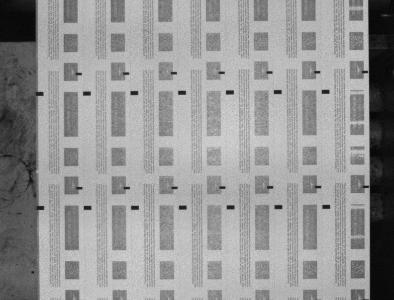backgroundclutter: (31, 271, 35, 274)
qblock: (322, 204, 331, 209), (36, 205, 44, 210), (83, 91, 91, 96), (322, 89, 330, 94), (130, 91, 139, 95), (84, 205, 91, 210), (179, 205, 187, 209), (131, 205, 139, 209), (275, 205, 283, 209), (227, 205, 235, 209), (274, 90, 282, 94), (226, 90, 234, 94), (36, 92, 44, 96), (178, 90, 186, 94)
smallqblock: (76, 186, 83, 190), (315, 185, 322, 188), (363, 185, 370, 188), (267, 186, 274, 189), (171, 186, 178, 189), (171, 72, 178, 75), (124, 186, 130, 189), (220, 186, 226, 189), (315, 71, 321, 74), (363, 70, 369, 73), (267, 71, 273, 74), (76, 72, 82, 75), (219, 71, 225, 74), (123, 72, 129, 75)
